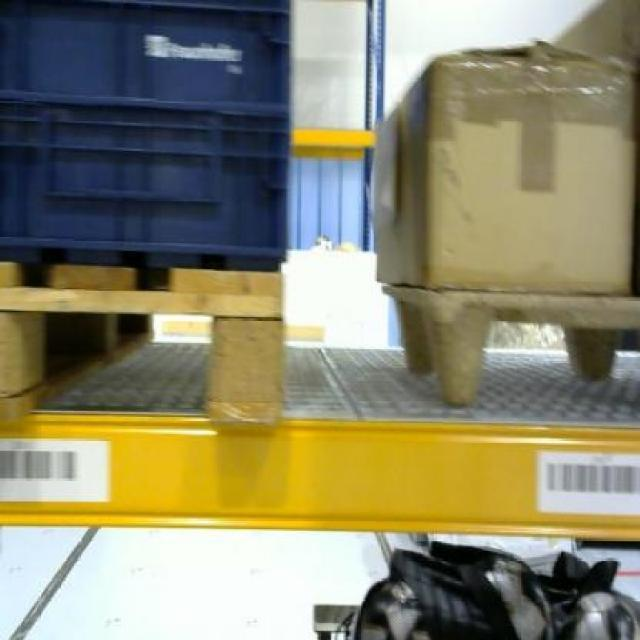box: (374, 37, 634, 291)
